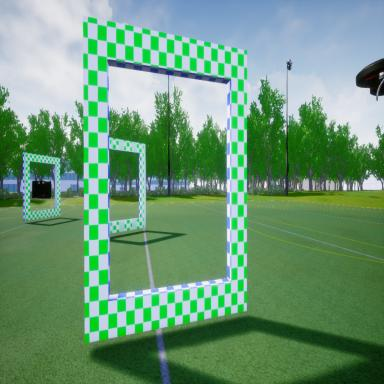gate: (80, 11, 250, 356), (22, 147, 62, 227)
